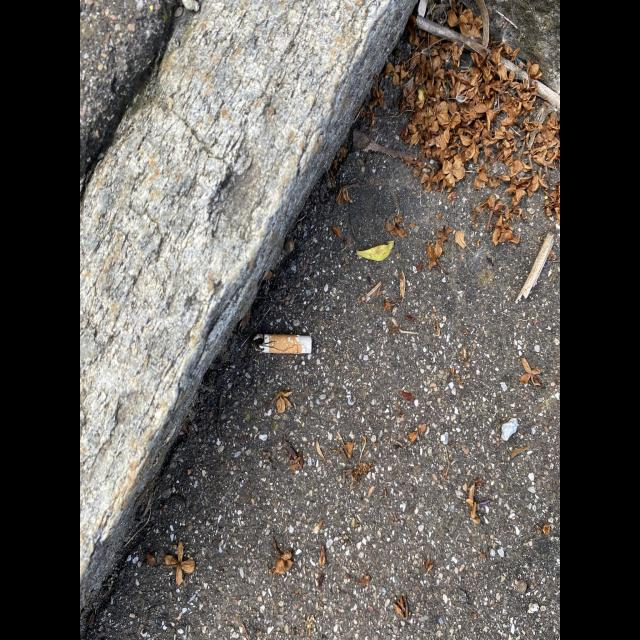other waste: (251, 334, 312, 354)
